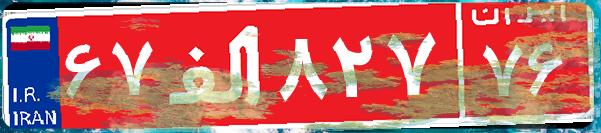2: (330, 28, 385, 110)
6: (57, 26, 110, 107), (525, 38, 570, 115)
7: (385, 28, 445, 110), (475, 38, 525, 113), (110, 28, 158, 105)
8: (273, 28, 330, 110)
الف: (158, 15, 273, 115)
